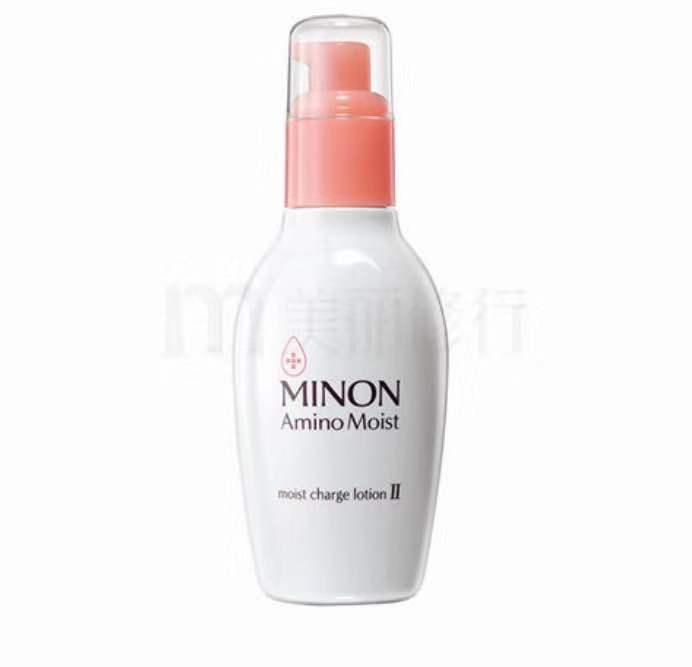cosmetic: (231, 10, 450, 609)
